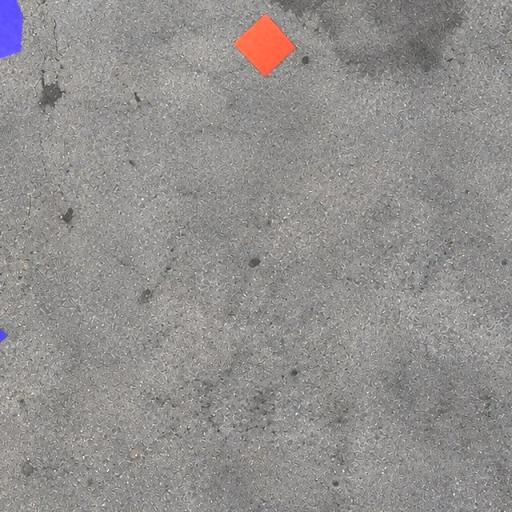RED_SQUARE: (233, 12, 297, 78)
